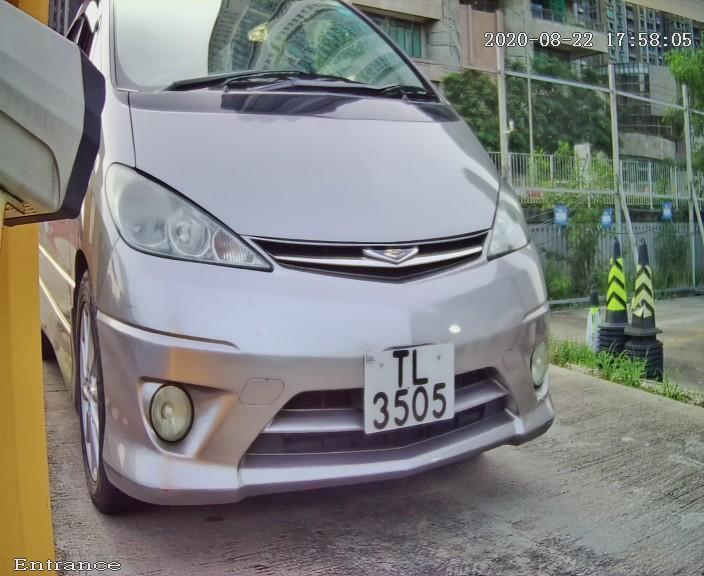Car: (19, 1, 598, 543)
License Plate: (353, 335, 469, 445)
